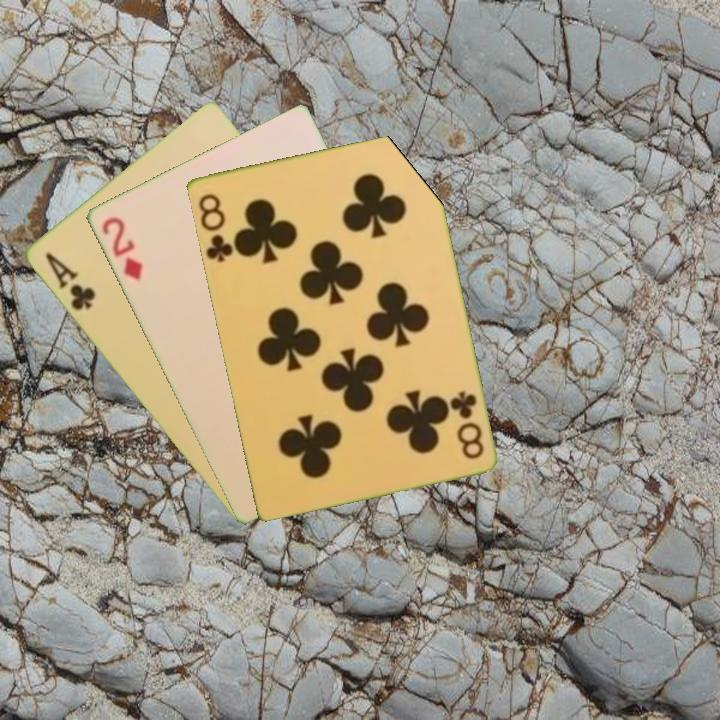2d: (98, 213, 146, 283)
8c: (194, 189, 239, 265), (446, 387, 486, 462)
Ac: (41, 249, 98, 313)
